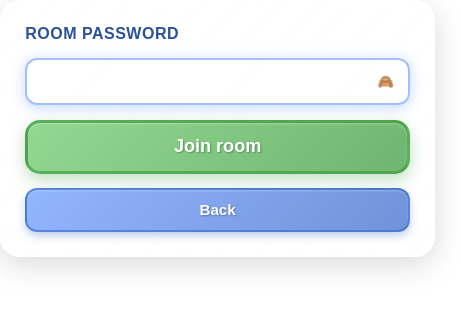
Test: CreateRoom Component › Join Mode › should prompt for a room password, validate empty submissions, and toggle visibility
Expected: the field labelled "Room password" is shown, [25,58,410,105]
Click the button "Join room": (218, 147) [25,120,410,174]
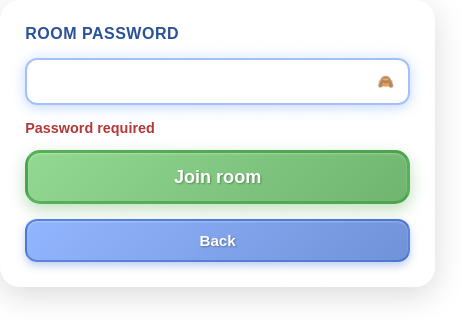
Expected: the text "Password required" is shown, [25,120,155,136]
In the field labelled "Room password": (218, 81) [25,58,410,105], type "secret"
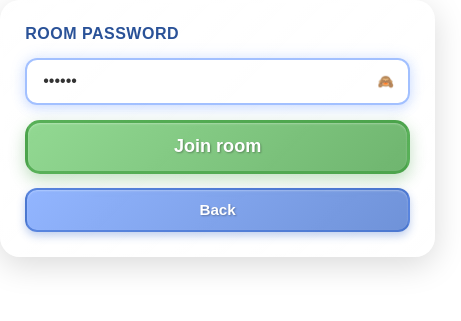
Expected: the text "Password required" is gone
Click the button named "show password": (386, 81) [374,72,397,91]
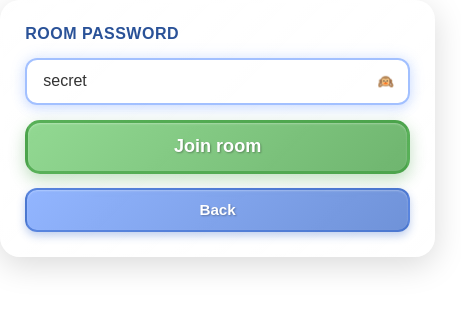
Expected: the button named "hide password" is shown, [374,72,397,91]
